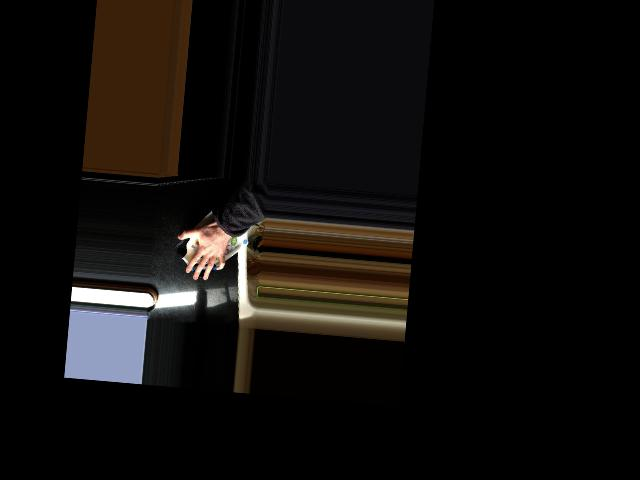cheese: (172, 202, 253, 283)
